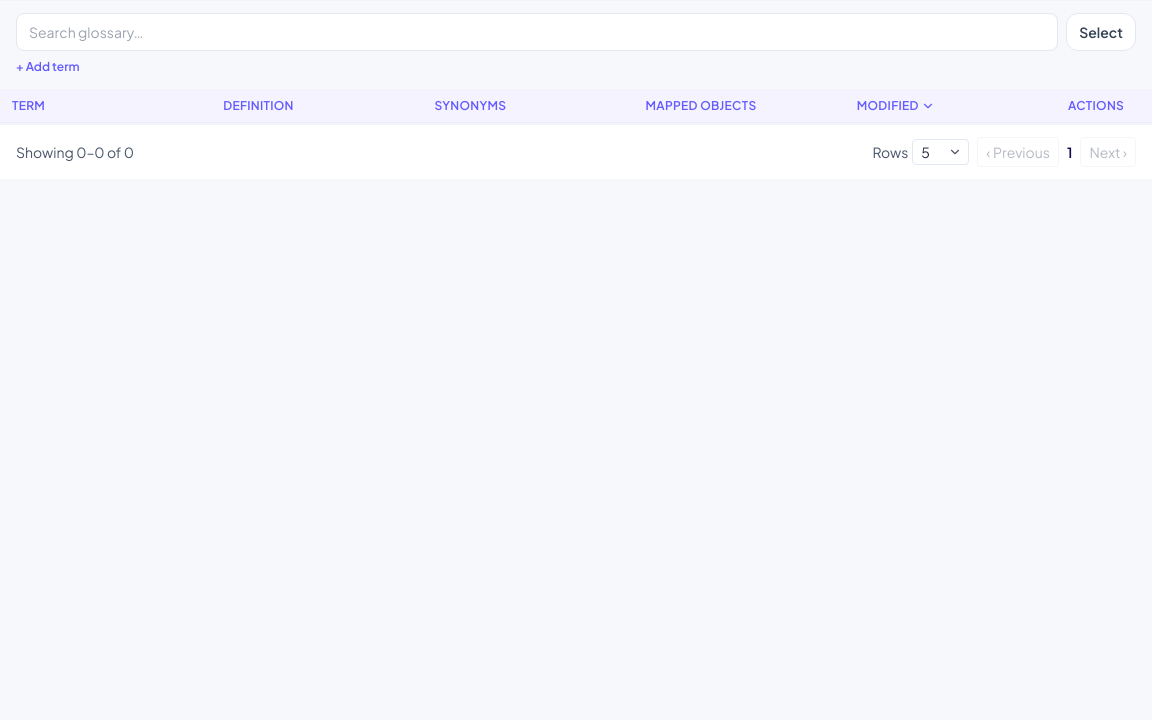
Scenario: SEM-2A matrix › SEM-2A-026 Glossary create/edit
What coordinates should you click on to do the following:
click the button "+ Add term"
I would click on:
 (48, 67)
Its box is x1=16 y1=59 x2=80 y2=75.
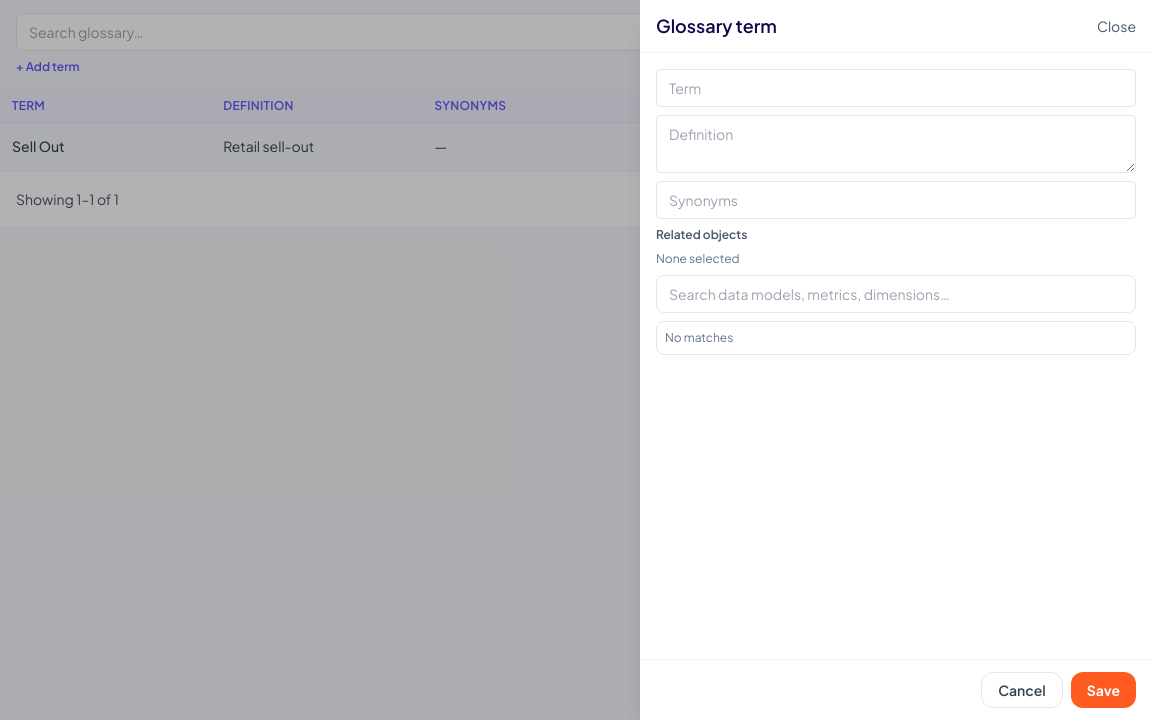
Now the heading "Glossary term" is shown, box x1=656 y1=12 x2=777 y2=40
What coordinates should you click on to do the following:
click the button "Cancel"
I would click on:
 (1022, 690)
Its box is x1=981 y1=672 x2=1063 y2=708.
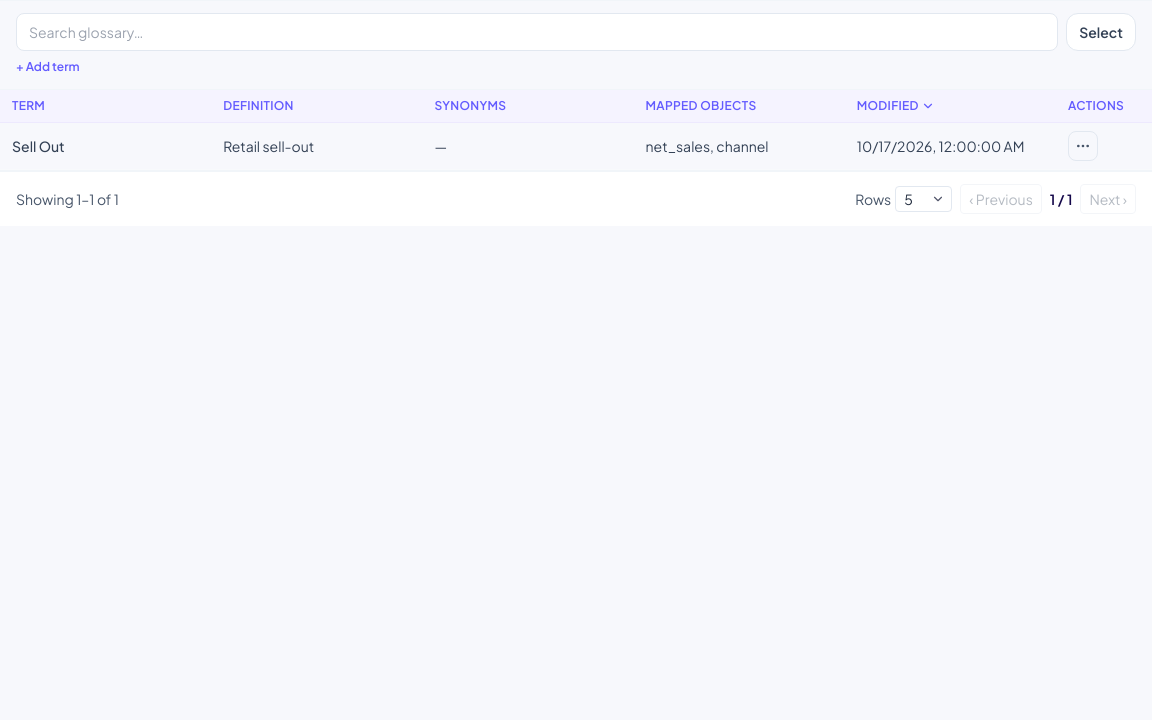
What coordinates should you click on to do the following:
click the button named "Actions for Sell Out"
I would click on:
 (1083, 146)
Its box is x1=1068 y1=131 x2=1098 y2=161.
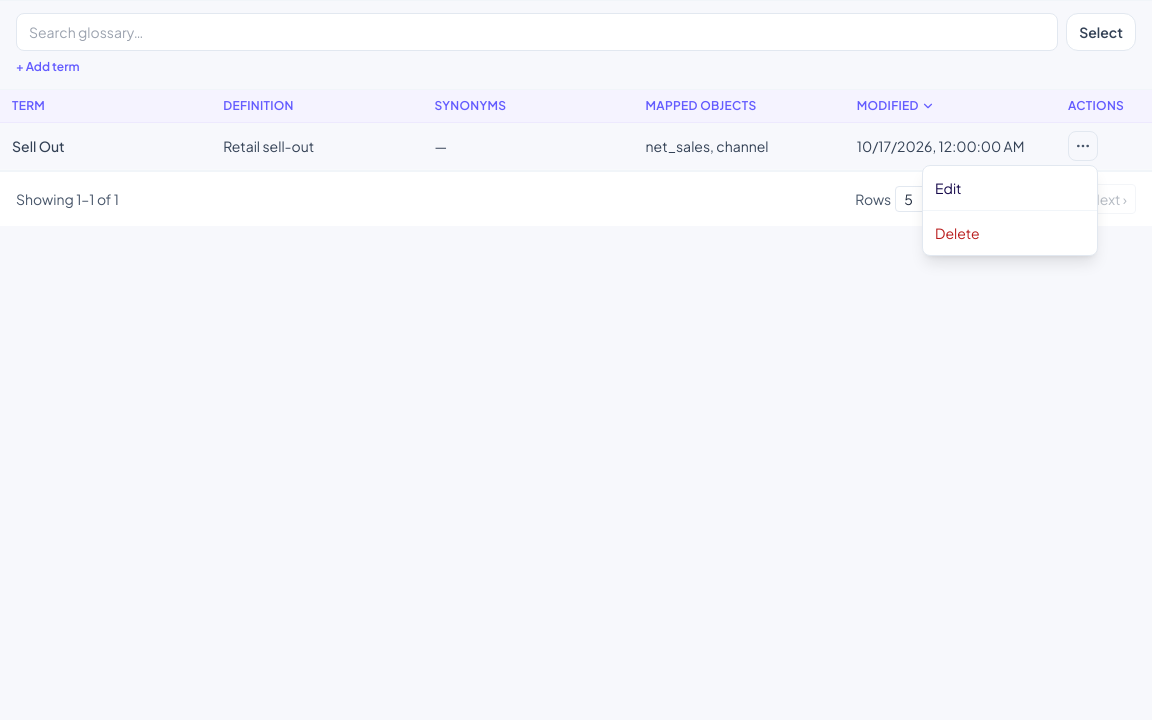
What coordinates should you click on to do the following:
click the menu item "Edit"
I would click on:
 (1010, 188)
Its box is x1=923 y1=170 x2=1097 y2=206.
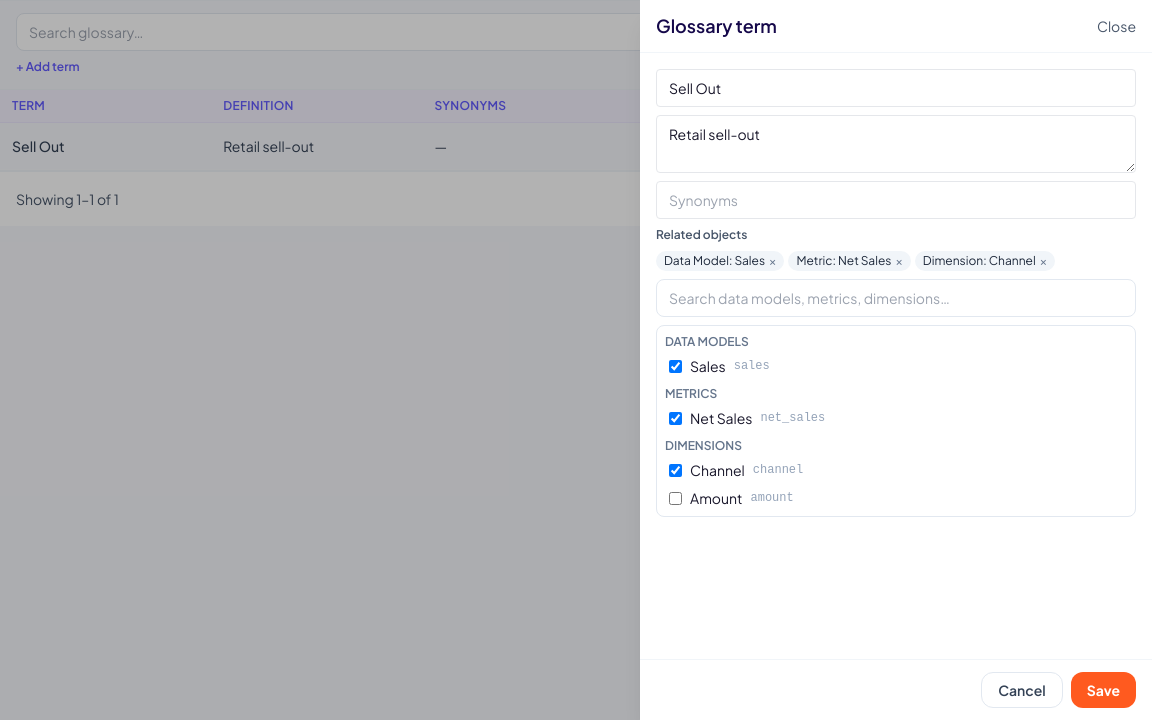
Now the field showing "Sell Out" is shown, box x1=656 y1=69 x2=1136 y2=107
